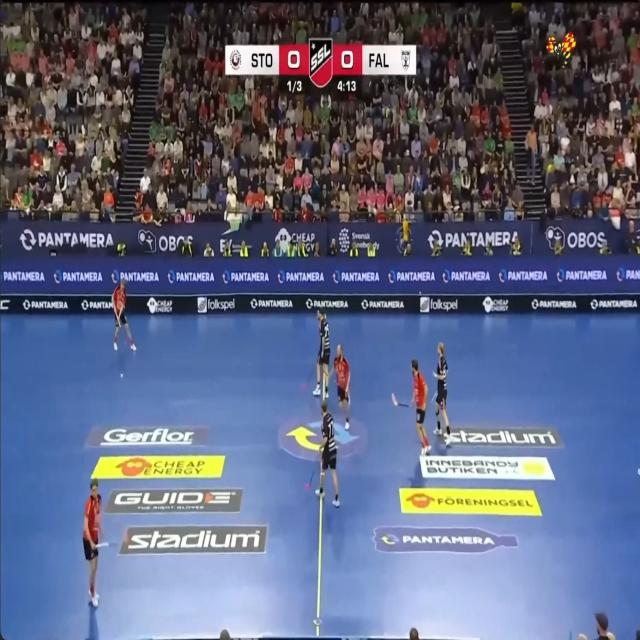Balls: (120, 372, 123, 377)
player: (315, 399, 339, 507), (83, 478, 101, 607), (411, 358, 431, 455), (111, 279, 136, 350), (434, 341, 451, 445), (313, 309, 330, 399), (333, 344, 350, 429)
stick: (392, 393, 411, 406), (305, 472, 314, 490), (95, 542, 109, 548), (431, 393, 437, 402), (320, 450, 321, 463)
